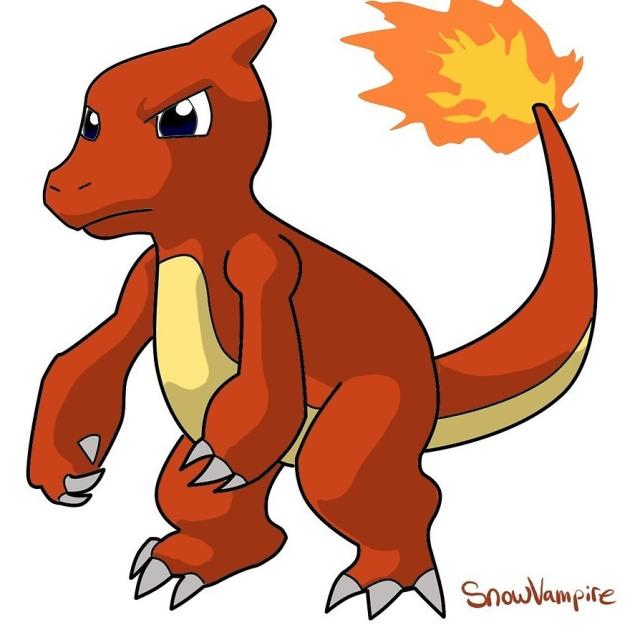Charmeleon: (10, 0, 501, 623)
